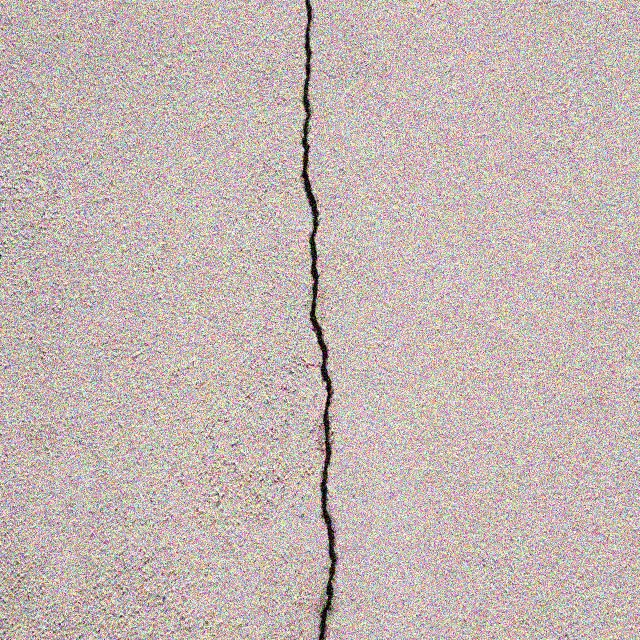SurfaceCrack: (252, 1, 386, 640)
